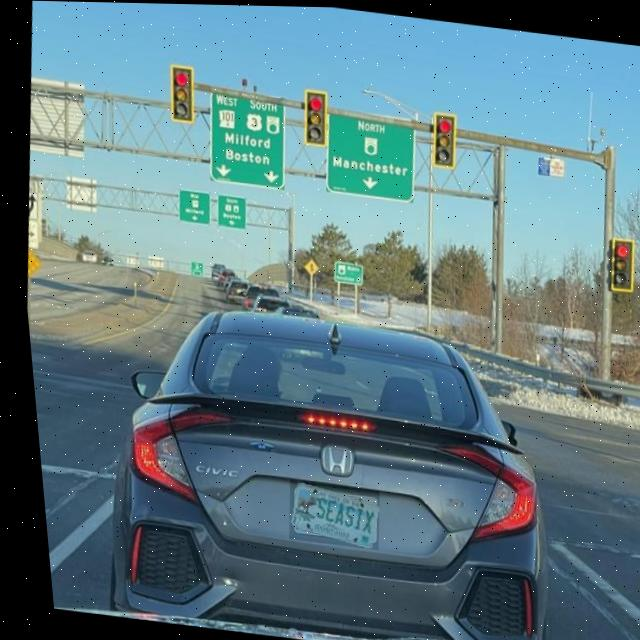LicensePlate: (279, 480, 369, 547)
